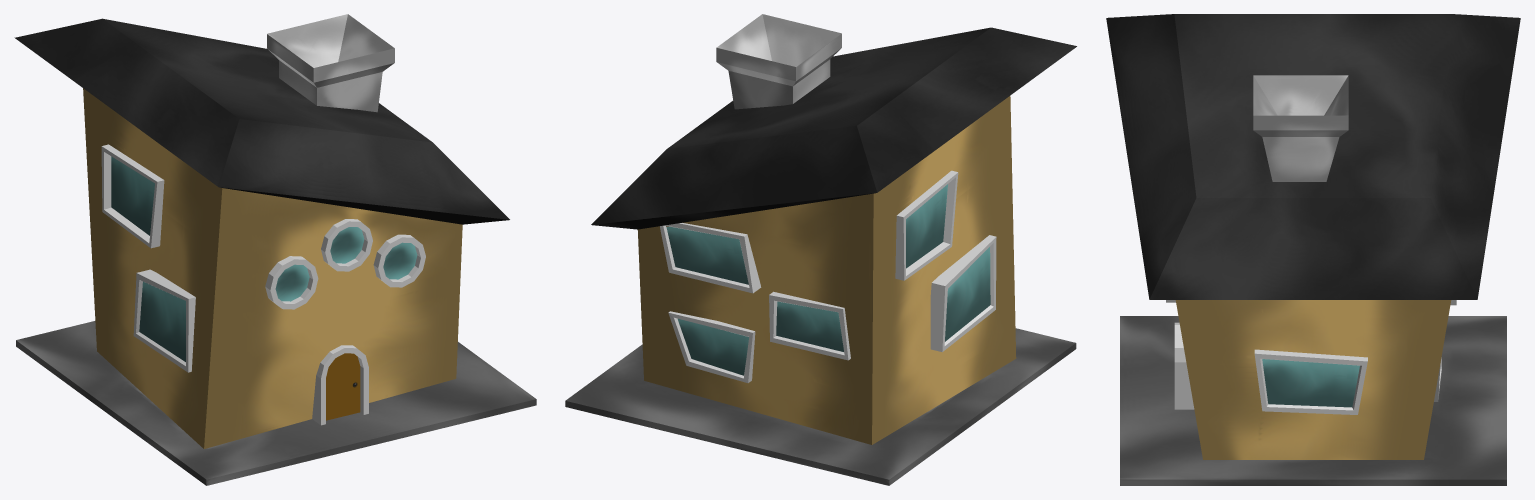
The model's file is building_2.fbx.
The picture shows the model from 3 angles, left to right: view 1: azimuth 30°, elevation 25°; view 2: azimuth 150°, elevation 25°; view 3: azimuth 270°, elevation 25°; orthographic projection. The views are drawn at different scales.
Visible parts, largest first — view 1: Building2_LOD0; view 2: Building2_LOD0; view 3: Building2_LOD0.
Boxes of the visible parts, box(x1,y1,x2,y2) form: Building2_LOD0: box(14, 14, 536, 485); Building2_LOD0: box(565, 14, 1076, 485); Building2_LOD0: box(1106, 14, 1520, 485).
Size of what is drawn, in the model's own units: 600 by 578 by 643.
